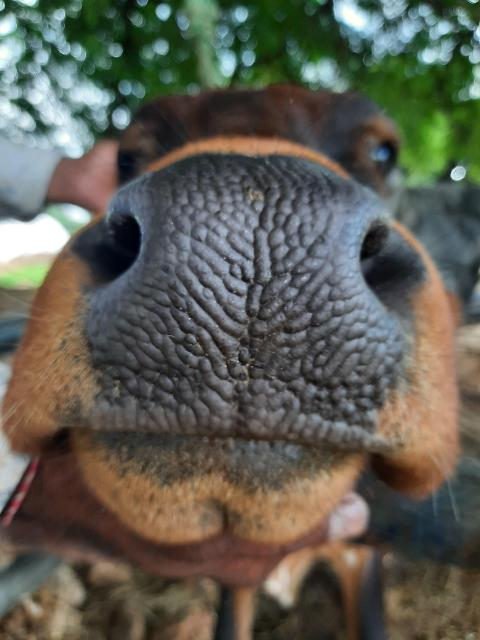Muzzle: (148, 163, 352, 411)
